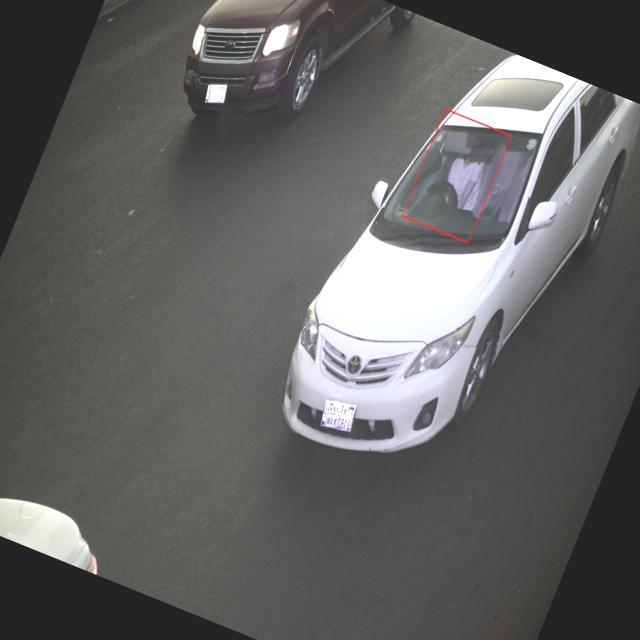windshield: (366, 109, 554, 262)
